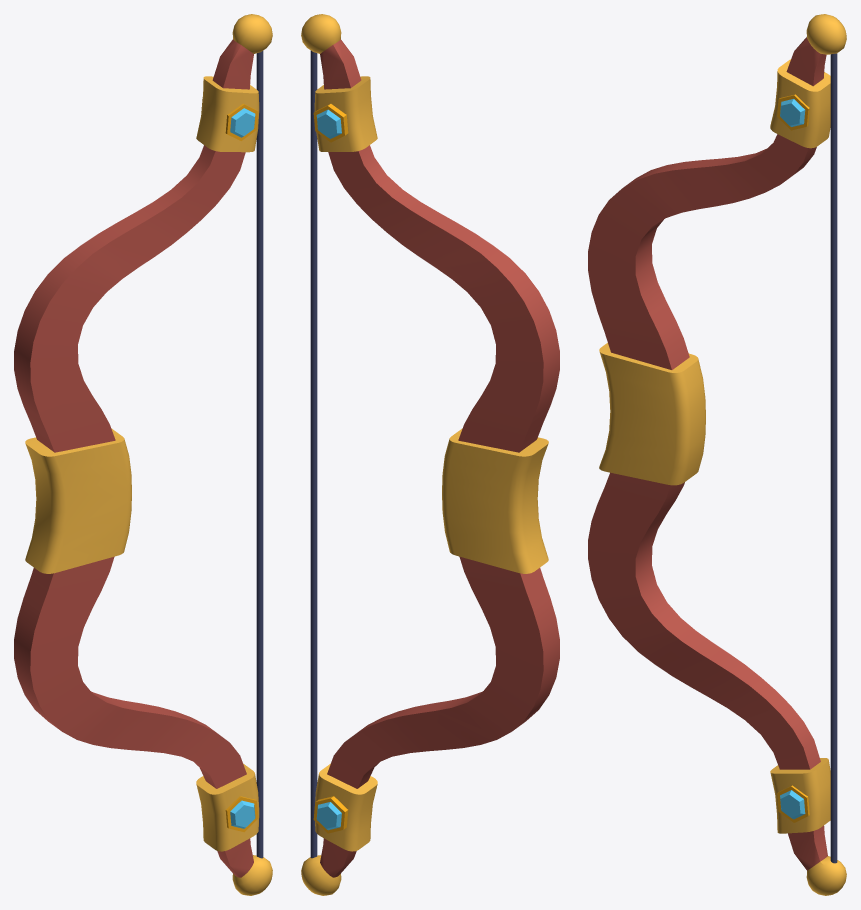
Rendered from Bow C Multi.fbx.
The picture shows the model from 3 angles, left to right: view 1: azimuth 30°, elevation 25°; view 2: azimuth 150°, elevation 25°; view 3: azimuth 330°, elevation 25°; orthographic projection.
Visible parts, largest first — view 1: Bow C; view 2: Bow C; view 3: Bow C.
Boxes of the visible parts, x1=… form: Bow C: x1=14, y1=14, x2=272, y2=895; Bow C: x1=301, y1=14, x2=559, y2=895; Bow C: x1=588, y1=14, x2=846, y2=895.
Bounding box in the file's own units: 0.6038 × 2.04 × 0.1283.
